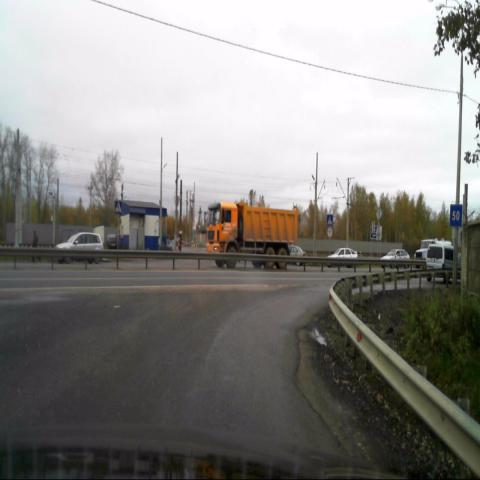6_2: (450, 204, 463, 228)
